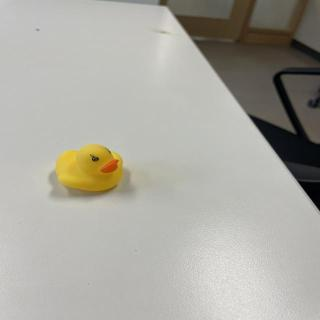duck_regular: (55, 144, 126, 193)
